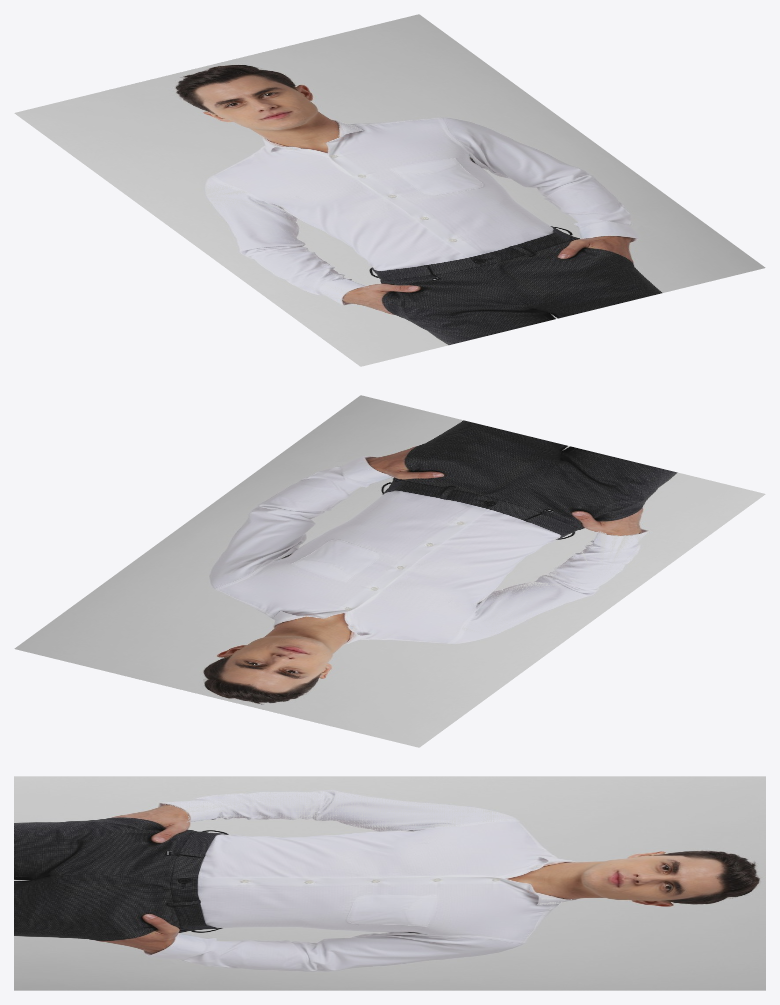
File: shirtFour.glb
3 renders of one model, top to bottom at view 1: azimuth 30°, elevation 25°; view 2: azimuth 150°, elevation 25°; view 3: azimuth 270°, elevation 25°, orthographic. The views are drawn at different scales.
Visible parts, largest first — view 1: Plane, path1411; view 2: Plane, path1411; view 3: Plane, path1411.
Boxes of the visible parts, bbox=[...] form: Plane: bbox=[14, 14, 765, 366]; path1411: bbox=[205, 176, 368, 304]; Plane: bbox=[14, 395, 765, 747]; path1411: bbox=[462, 531, 648, 635]; Plane: bbox=[14, 776, 765, 990]; path1411: bbox=[160, 791, 519, 831].
Size of the model in its own units: 0.1614 by 0 by 0.2391.
1 material, 1 textured.
